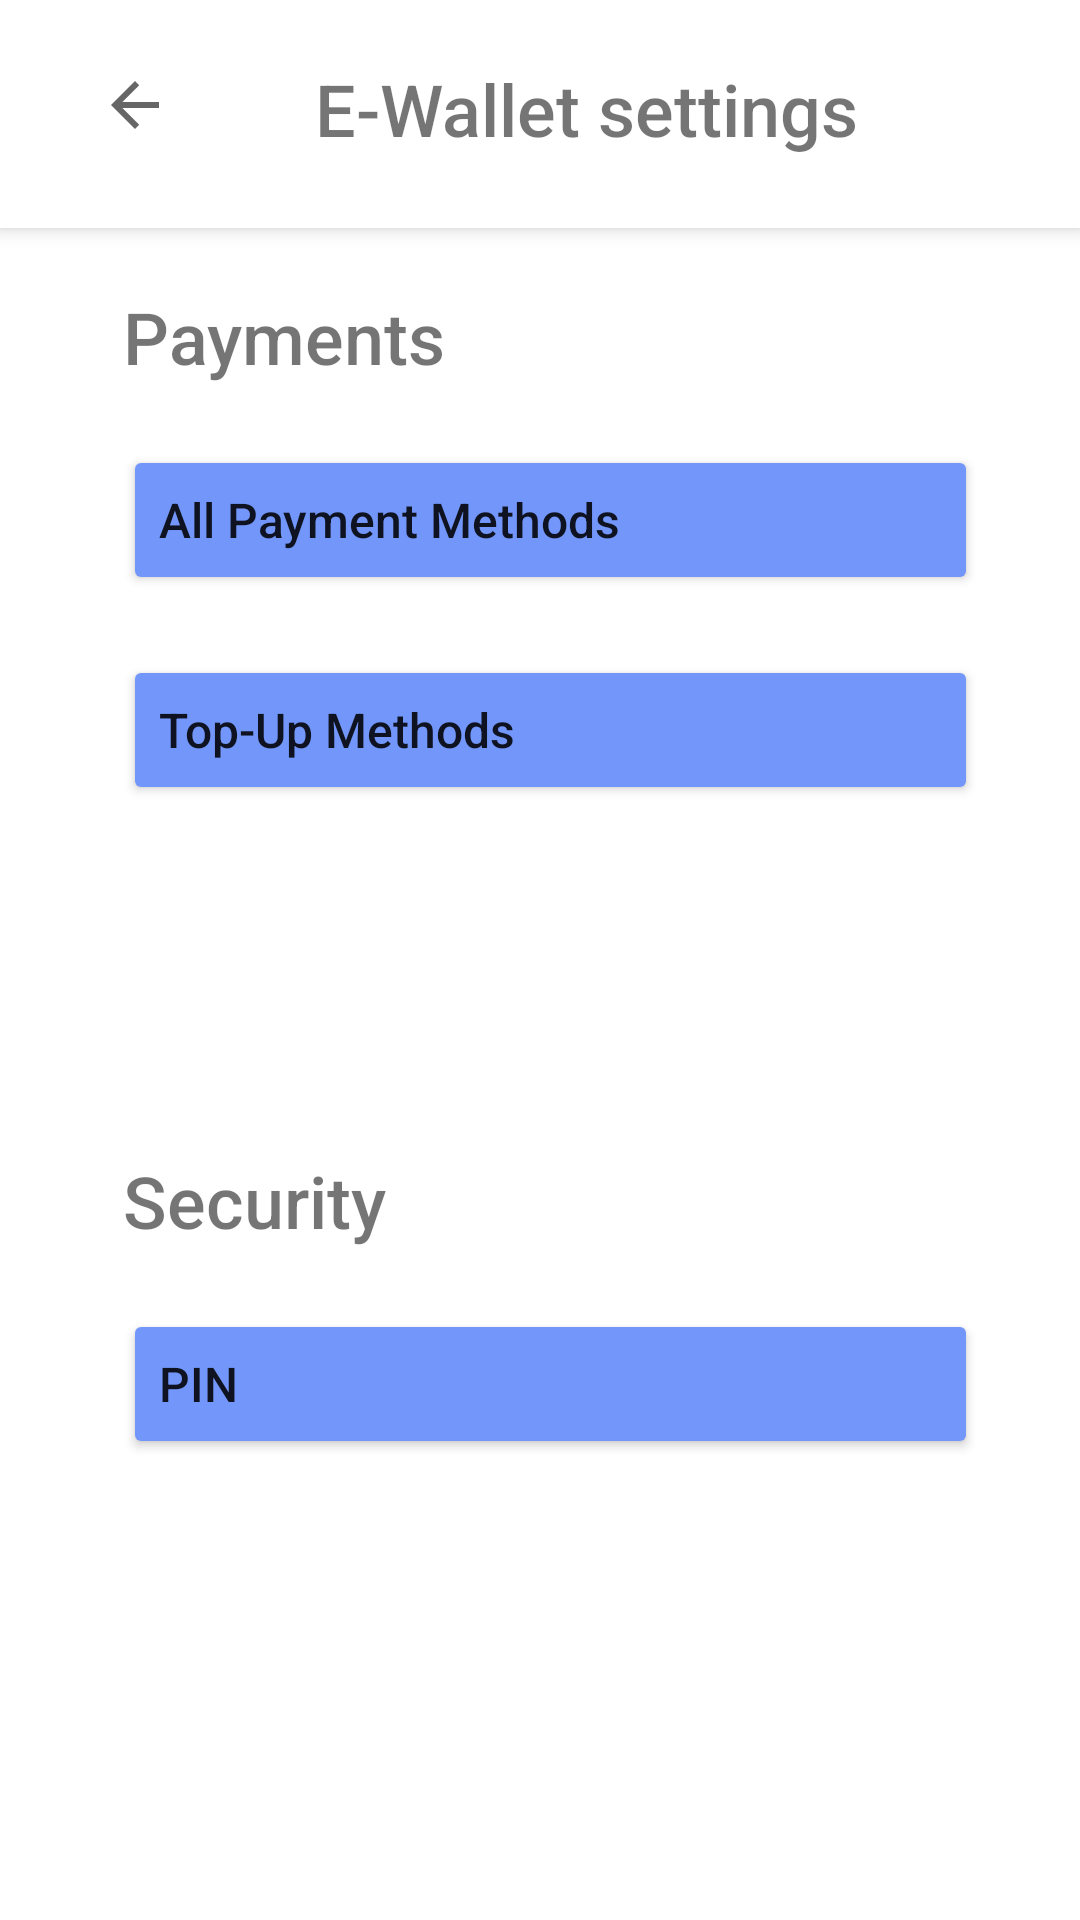

Icons on this 1080x1920 Android screen, each with the point to tap as point (x, y):
Back To E-Wallet: point (135, 105)
